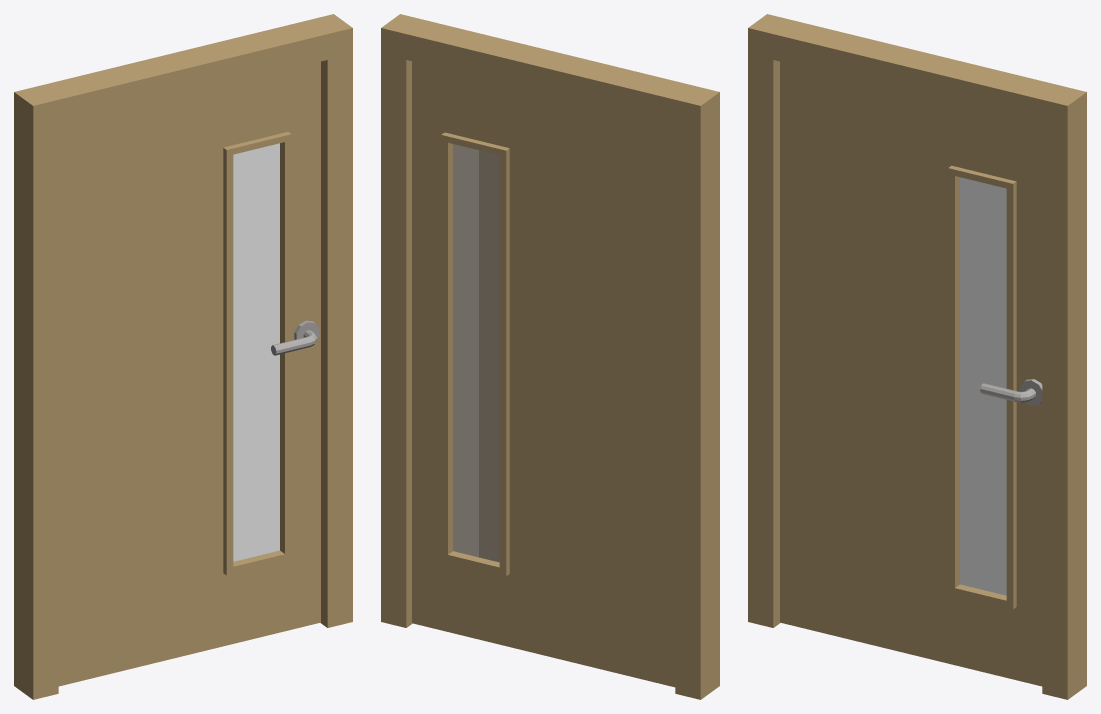
File: Office Door 2.fbx
3 renders of one model, left to right at view 1: azimuth 30°, elevation 25°; view 2: azimuth 150°, elevation 25°; view 3: azimuth 330°, elevation 25°, orthographic.
Visible parts, largest first — view 1: Cube.001, Cube, Cube.004; view 2: Cube.001, Cube, Cube.004; view 3: Cube.001, Cube, Cube.004.
Part boxes in pixels (<box>): Cube.001: <box>58,61,320,686</box>; Cube: <box>14,14,352,699</box>; Cube.004: <box>233,143,279,561</box>; Cube.001: <box>412,61,675,687</box>; Cube: <box>381,14,719,699</box>; Cube.004: <box>453,144,499,562</box>; Cube.001: <box>780,61,1042,686</box>; Cube: <box>748,14,1086,699</box>; Cube.004: <box>960,177,1006,595</box>.
Size of the model in its own units: 125 by 221 by 16.6.
